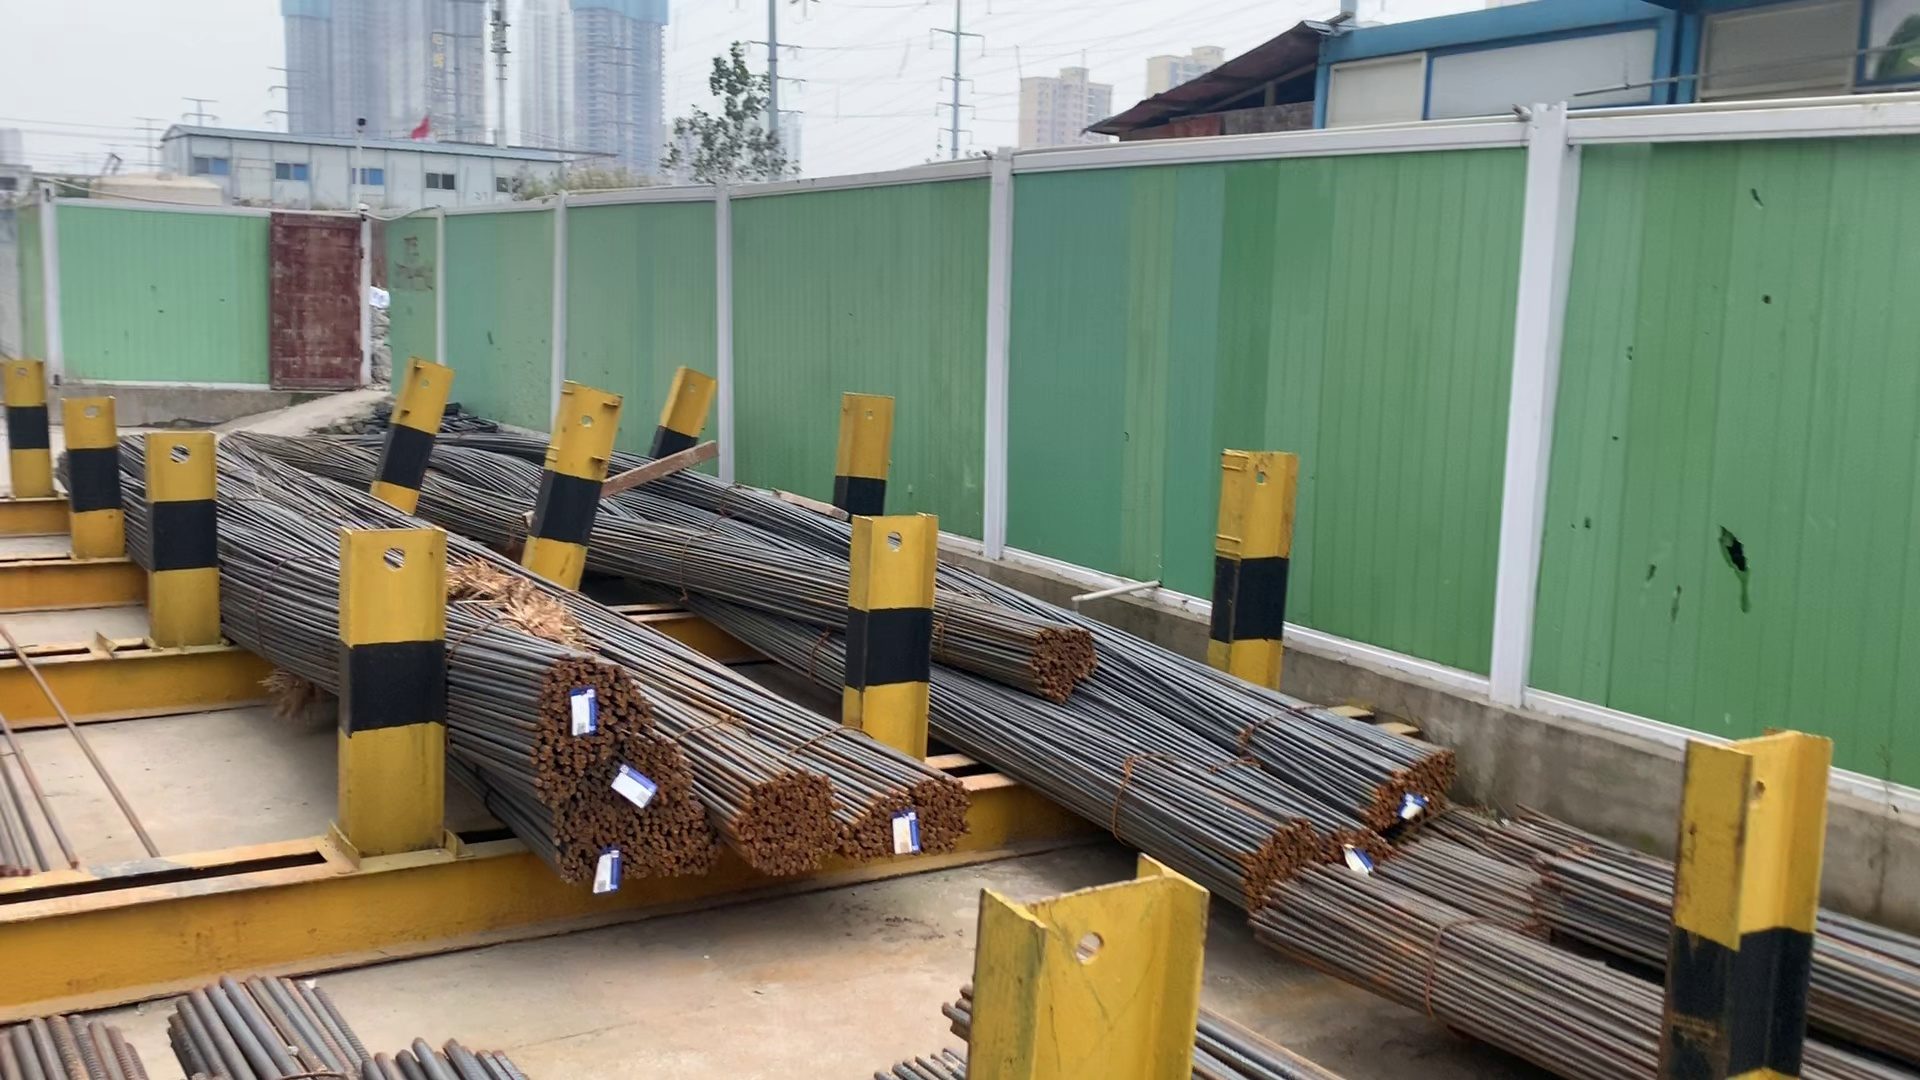rebar: (530, 654, 644, 803), (570, 764, 709, 884), (738, 777, 843, 876), (847, 777, 976, 855), (1369, 738, 1464, 820), (1241, 818, 1319, 905), (1014, 622, 1096, 704), (1315, 822, 1396, 866)
